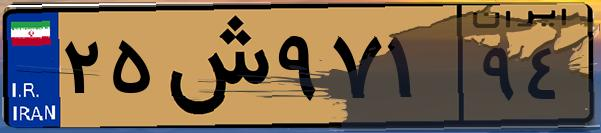1: (385, 28, 445, 110)
2: (57, 26, 110, 100)
4: (525, 38, 570, 115)
5: (110, 28, 158, 98)
7: (330, 28, 385, 110)
9: (270, 28, 330, 110), (475, 38, 525, 113)
ش: (158, 12, 270, 120)
